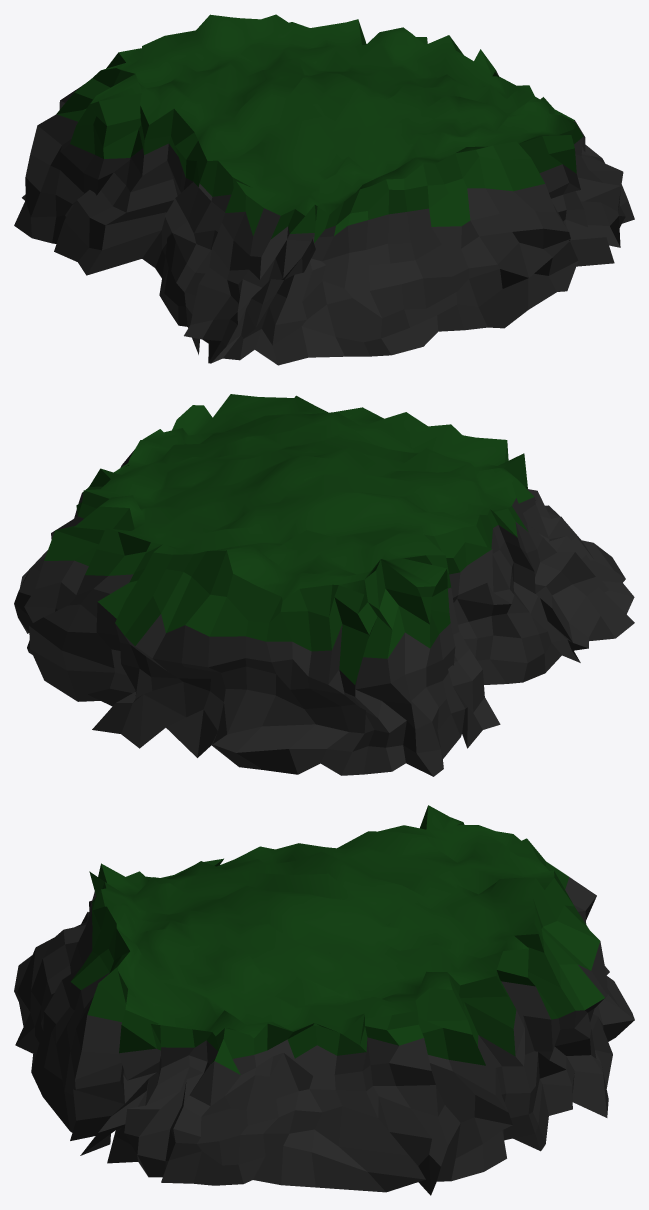
Rendered from mountain4.fbx.
The picture shows the model from 3 angles, top to bottom: view 1: azimuth 30°, elevation 25°; view 2: azimuth 150°, elevation 25°; view 3: azimuth 270°, elevation 25°; orthographic projection. The views are drawn at different scales.
Visible parts, largest first — view 1: mountain4; view 2: mountain4; view 3: mountain4.
Boxes of the visible parts, x1,y1,x2,y2 form: mountain4: (14,14,634,365); mountain4: (14,394,634,776); mountain4: (14,805,634,1195).
Size of the model in its own units: 9490 by 3746 by 10024.
